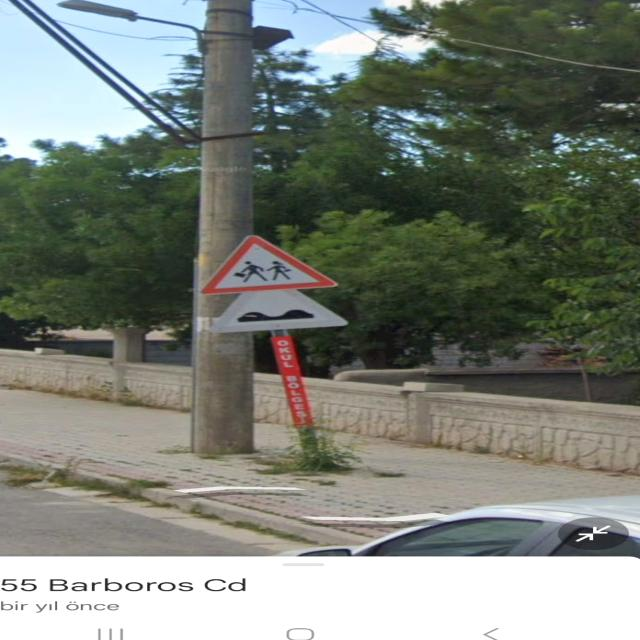okul_gecidi: (199, 234, 343, 294)
